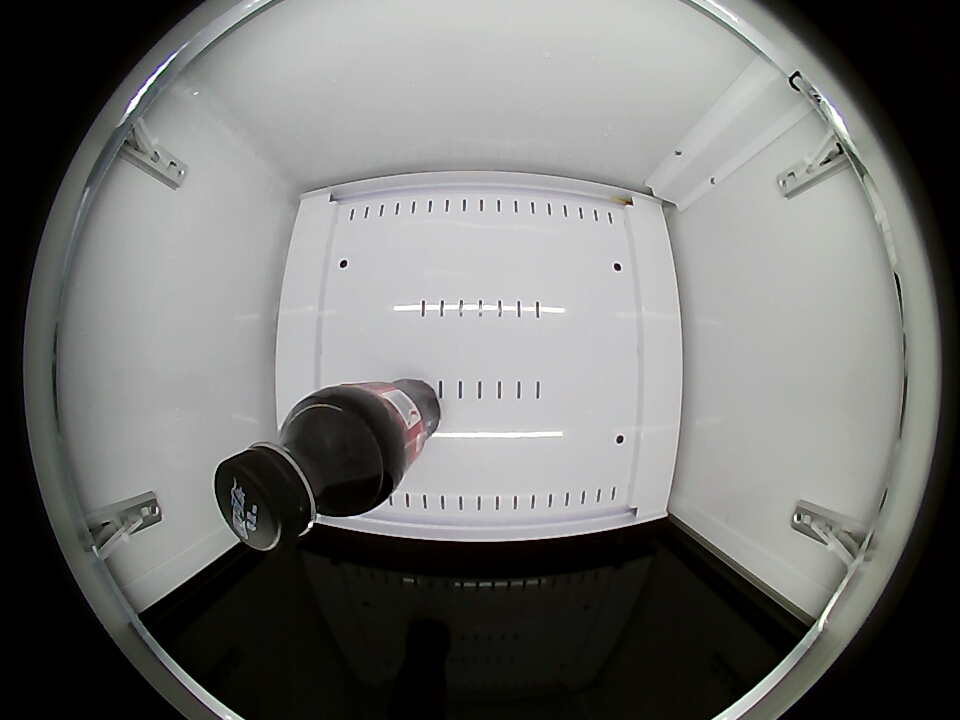lingdukele-b: (214, 397, 385, 550)
